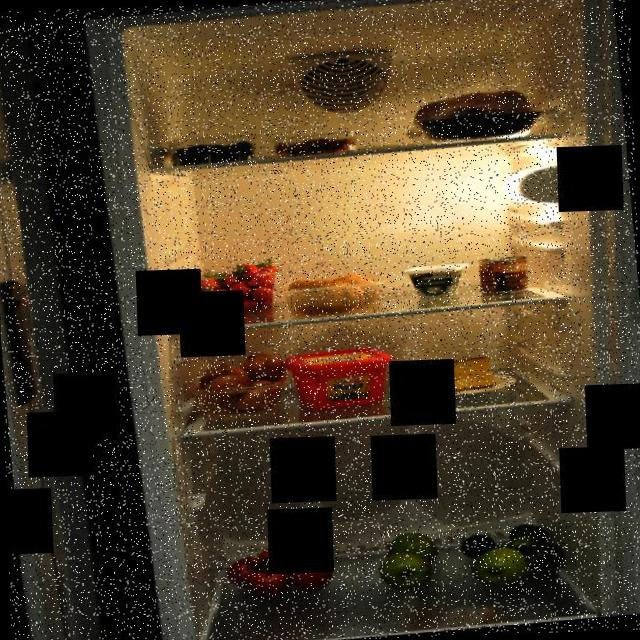Carne pollo: (402, 82, 552, 146)
Cebolla: (195, 347, 291, 417)
Gambas/Langostinos: (271, 130, 365, 163)
Mantequilla: (284, 342, 398, 414)
Manzana: (376, 527, 444, 598), (471, 542, 532, 592)
Patata: (287, 270, 390, 322)
Queso: (404, 351, 498, 398), (402, 260, 468, 302)
Tomate: (218, 539, 338, 602)
blueberries: (171, 138, 255, 166)
corn: (478, 252, 532, 299)
strawberries: (192, 256, 282, 322)
